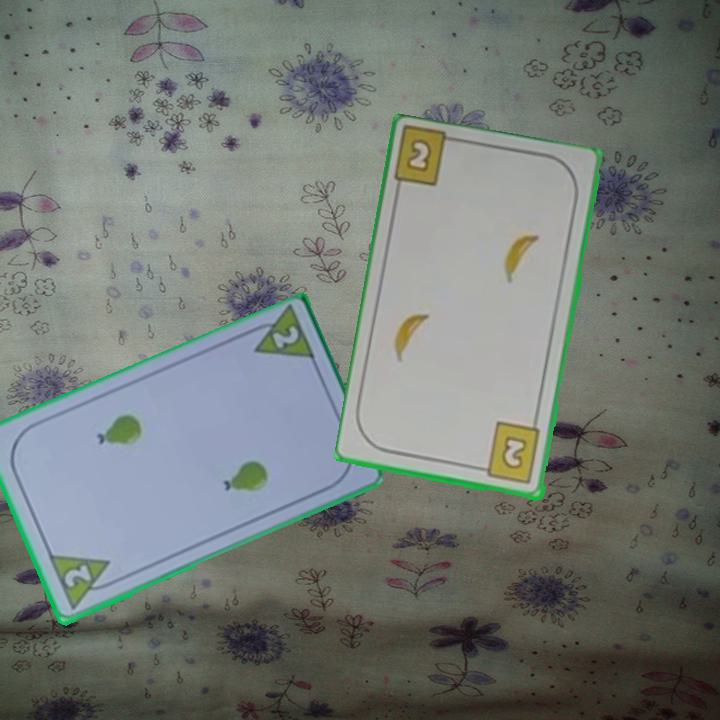2b: (475, 420, 543, 487), (403, 135, 435, 176)
2p: (44, 551, 120, 614), (268, 322, 302, 352)
